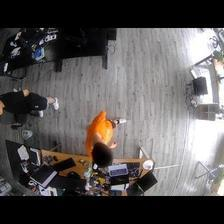normal: (84, 110, 129, 167), (1, 88, 61, 118)
